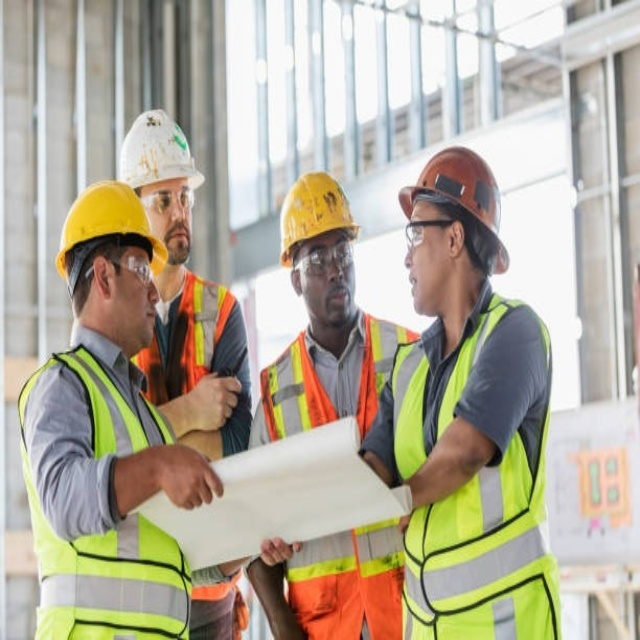Gafas: (291, 238, 357, 279), (96, 256, 154, 287), (141, 182, 196, 212), (405, 213, 450, 248)
Sin_guantes: (148, 438, 223, 511), (173, 365, 244, 433), (260, 533, 307, 573)
Sin_mascara: (322, 279, 350, 314), (407, 268, 431, 303), (132, 301, 156, 334), (168, 220, 191, 246)
